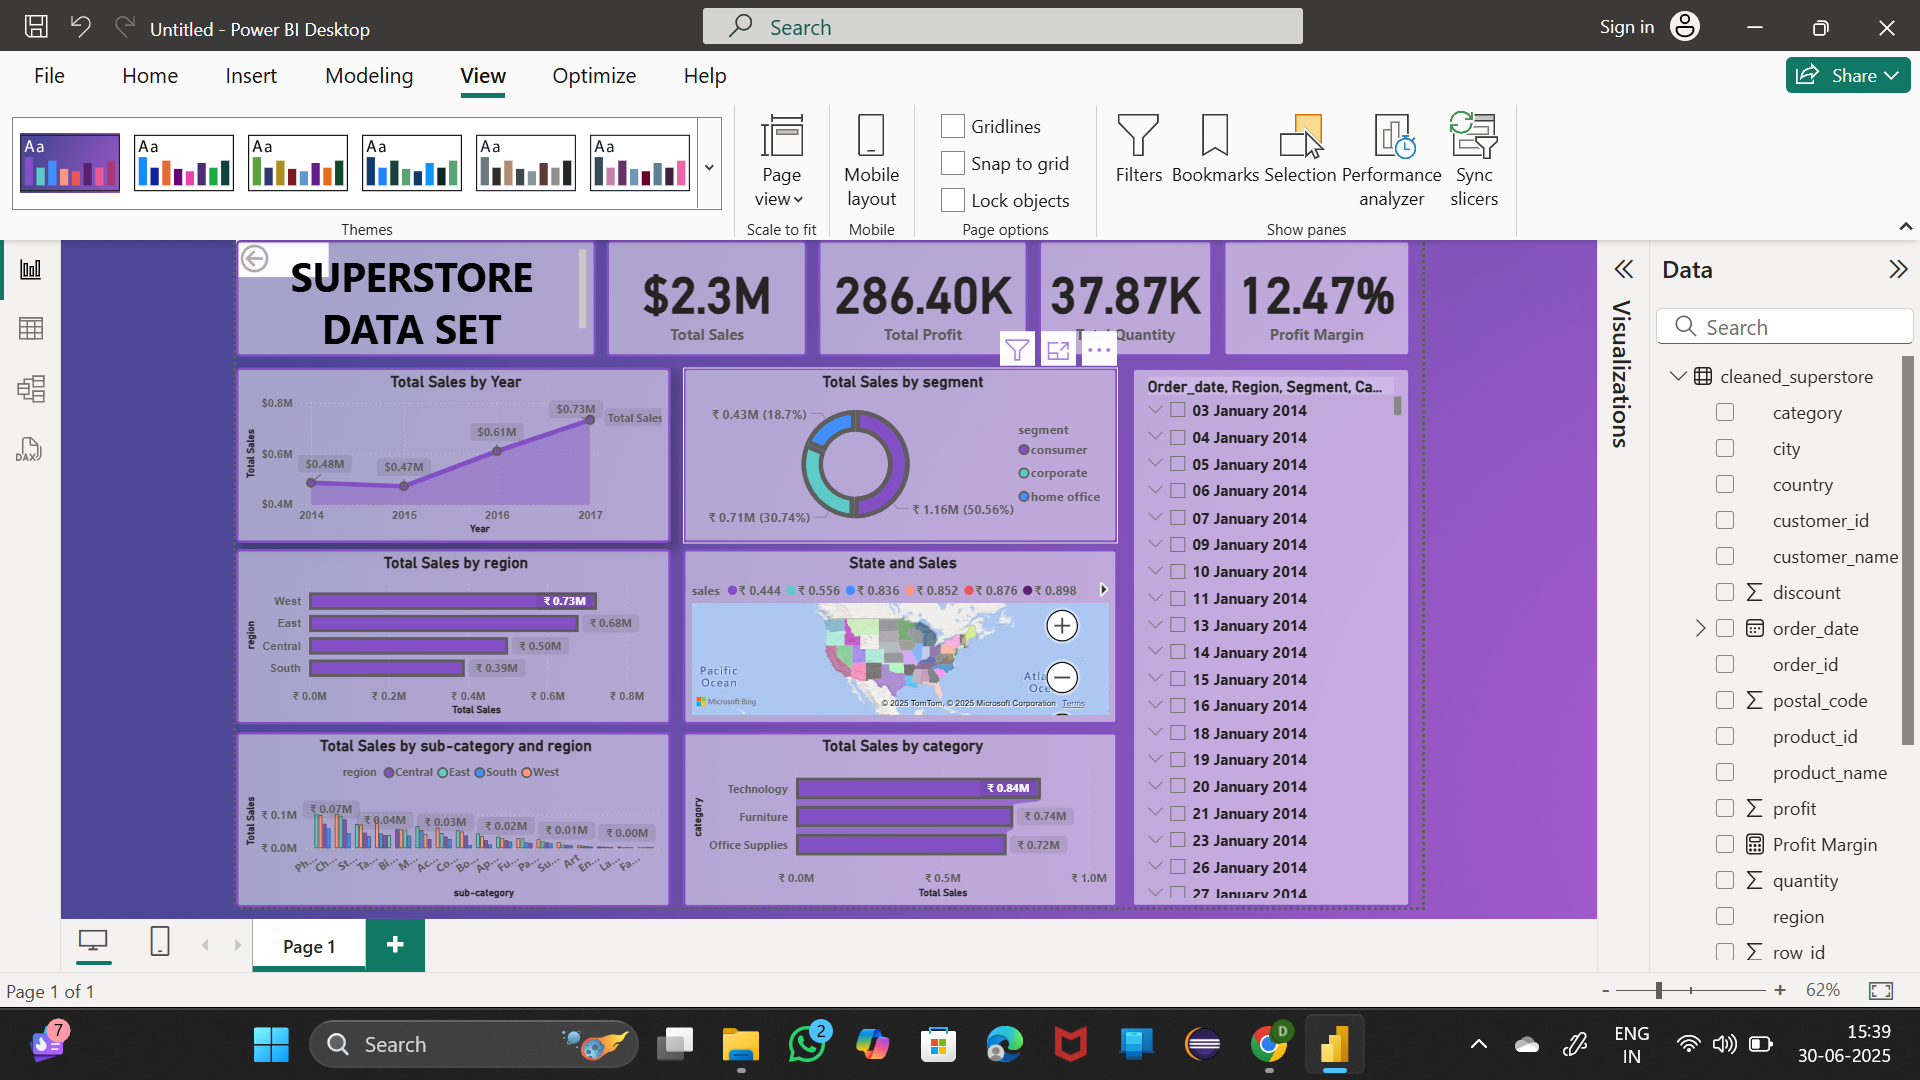

What the dashboard file says about the page in this screenshot:
{"tool":"powerbi","page":{"name":"Page 1","canvas":[1280,720],"ordinal":0},"visuals":[{"type":"card","fields":{"Values":["cleaned_superstore.Total Sales"]},"box":[399.9,0,217,126.3],"z":0},{"type":"card","fields":{"Values":["cleaned_superstore.Total Profit"]},"box":[628.3,0,226.7,126.3],"z":1000},{"type":"card","fields":{"Values":["cleaned_superstore.Total Quantity"]},"box":[866.3,0,187.8,126.3],"z":2000},{"type":"card","fields":{"Values":["cleaned_superstore.Profit Margin"]},"box":[1065.5,0,202.4,126.3],"z":3000},{"type":"lineChart","fields":{"Y":["cleaned_superstore.Total Sales"],"Category":["cleaned_superstore.order_date.Variation.Date Hierarchy.Year","cleaned_superstore.order_date.Variation.Date Hierarchy.Month"]},"box":[0,137.6,469.6,189.4],"z":4000},{"type":"donutChart","fields":{"Category":["cleaned_superstore.segment"],"Y":["cleaned_superstore.Total Sales"]},"box":[482.5,137.6,469.6,189.4],"z":5000},{"type":"clusteredBarChart","fields":{"Category":["cleaned_superstore.region"],"Y":["cleaned_superstore.Total Sales"]},"box":[0,333.6,469.6,189.4],"z":6000},{"type":"filledMap","title":"State and Sales","fields":{"Category":["cleaned_superstore.state"],"Series":["cleaned_superstore.sales"]},"box":[482.5,333.6,469.6,189.4],"z":7000},{"type":"clusteredColumnChart","fields":{"Category":["cleaned_superstore.sub-category"],"Y":["cleaned_superstore.Total Sales"],"Series":["cleaned_superstore.region"]},"box":[0,531.1,469.6,189.4],"z":8000},{"type":"barChart","fields":{"Category":["cleaned_superstore.category"],"Y":["cleaned_superstore.Total Sales"]},"box":[482.5,531.1,469.6,189.4],"z":9000},{"type":"slicer","fields":{"Values":["cleaned_superstore.order_date","cleaned_superstore.region","cleaned_superstore.segment","cleaned_superstore.category"]},"box":[966.7,137.6,301.2,582.9],"z":10000},{"type":"actionButton","box":[0,0,100,40],"z":11000},{"type":"textbox","box":[0,0,388.6,126.3],"z":11001}]}

Visuals, with their boxes on the page's 1280x720 design canvas (x1, y1, x2, y2). These are canvas units, not pixel positions in the 1920x1080 screenshot, which may show the page scaled, cropped or inside an application window:
card - cleaned_superstore.Total Sales: bbox=[400, 0, 617, 126]
card - cleaned_superstore.Total Profit: bbox=[628, 0, 855, 126]
card - cleaned_superstore.Total Quantity: bbox=[866, 0, 1054, 126]
card - cleaned_superstore.Profit Margin: bbox=[1066, 0, 1268, 126]
lineChart - cleaned_superstore.Total Sales x cleaned_superstore.order_date.Variation.Date Hierarchy.Year: bbox=[0, 138, 470, 327]
donutChart - cleaned_superstore.segment x cleaned_superstore.Total Sales: bbox=[482, 138, 952, 327]
clusteredBarChart - cleaned_superstore.region x cleaned_superstore.Total Sales: bbox=[0, 334, 470, 523]
"State and Sales" filledMap: bbox=[482, 334, 952, 523]
clusteredColumnChart - cleaned_superstore.sub-category x cleaned_superstore.Total Sales: bbox=[0, 531, 470, 720]
barChart - cleaned_superstore.category x cleaned_superstore.Total Sales: bbox=[482, 531, 952, 720]
slicer - cleaned_superstore.order_date x cleaned_superstore.region: bbox=[967, 138, 1268, 720]
actionButton: bbox=[0, 0, 100, 40]
textbox: bbox=[0, 0, 389, 126]
